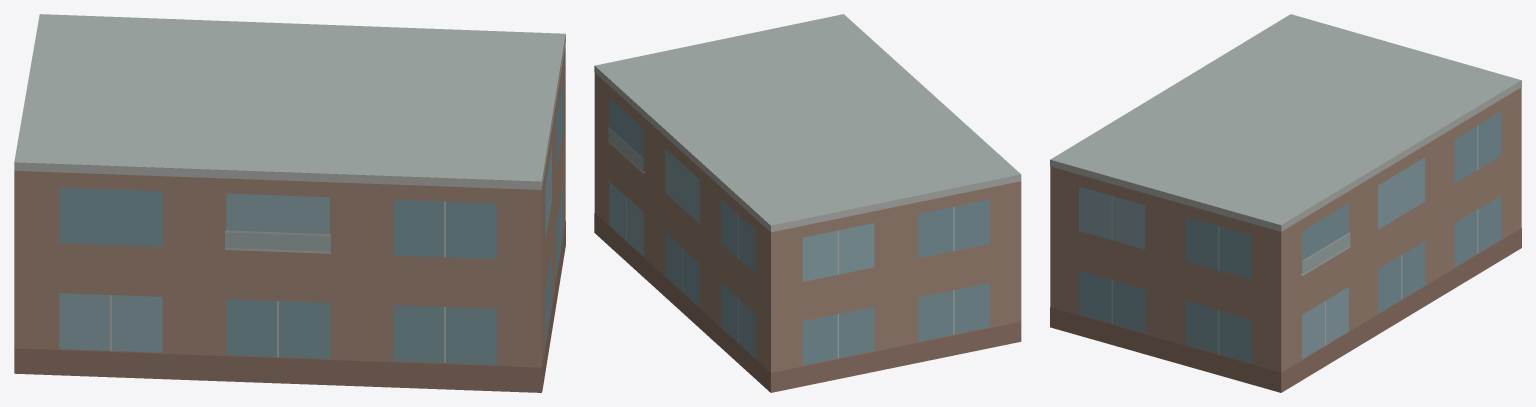
File: survey-upis-32694526.glb
The picture shows the model from 3 angles, left to right: view 1: azimuth 30°, elevation 25°; view 2: azimuth 150°, elevation 25°; view 3: azimuth 270°, elevation 25°; orthographic projection. The views are drawn at different scales.
Visible parts, largest first — view 1: survey-upis-32694526.tmp; view 2: survey-upis-32694526.tmp; view 3: survey-upis-32694526.tmp.
Part boxes in pixels (x1,y1,x2,y2): survey-upis-32694526.tmp: (14, 14, 565, 392); survey-upis-32694526.tmp: (594, 14, 1021, 392); survey-upis-32694526.tmp: (1050, 14, 1521, 392).
Size of the model in its own units: 16.49 by 6.1 by 15.56.
